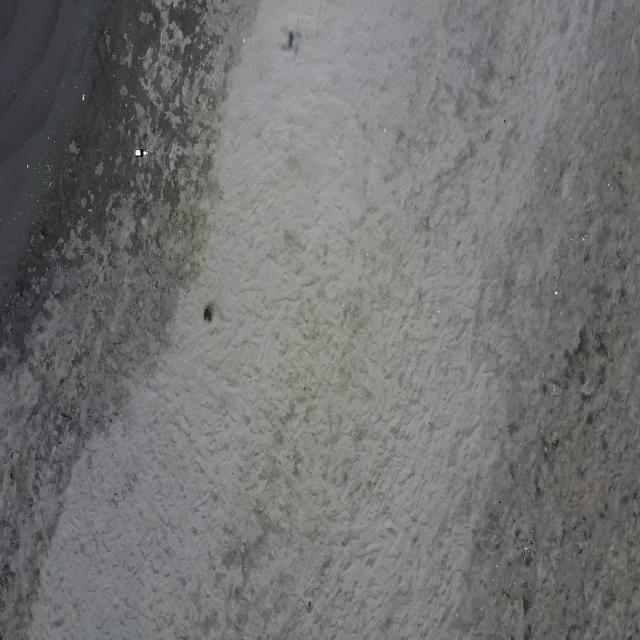glass: (134, 149, 149, 157)
